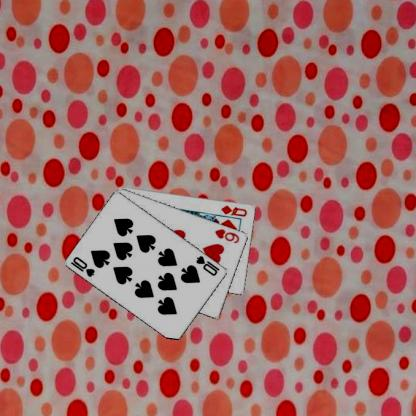10S: (193, 253, 221, 277), (68, 254, 96, 278)
6H: (212, 226, 240, 245)
QD: (218, 202, 248, 218)
